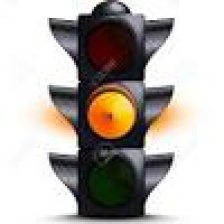semaforo: (78, 14, 145, 219)
